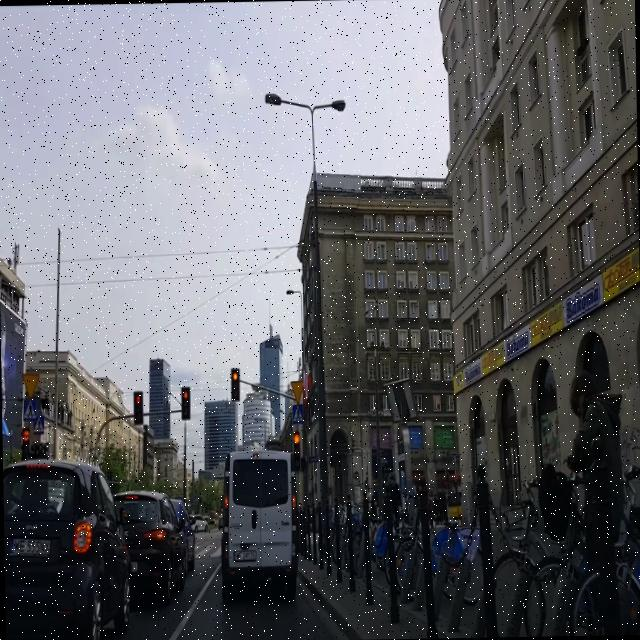Przejscie dla pieszych: (22, 398, 36, 420), (291, 402, 304, 424), (35, 416, 45, 434)
Ustap pierwszenstwa: (20, 372, 40, 396), (290, 379, 304, 404)
